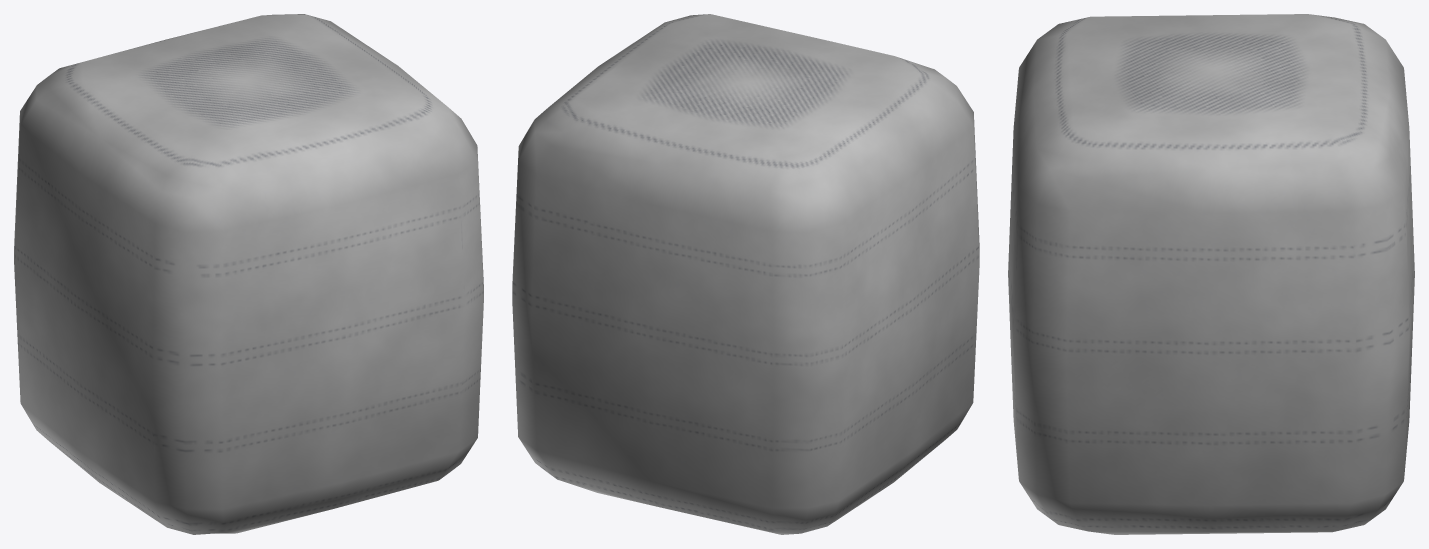
Rendered from RightUpperLeg_C1.fbx.
The picture shows the model from 3 angles, left to right: view 1: azimuth 30°, elevation 25°; view 2: azimuth 150°, elevation 25°; view 3: azimuth 270°, elevation 25°; orthographic projection. The views are drawn at different scales.
Parts seen in each view (by area): view 1: Civ_Mameluco_RightUpperLeg_C1; view 2: Civ_Mameluco_RightUpperLeg_C1; view 3: Civ_Mameluco_RightUpperLeg_C1.
Part boxes in pixels (bbox=[...]): Civ_Mameluco_RightUpperLeg_C1: bbox=[14, 14, 483, 534]; Civ_Mameluco_RightUpperLeg_C1: bbox=[512, 14, 979, 534]; Civ_Mameluco_RightUpperLeg_C1: bbox=[1008, 14, 1414, 534].
Bounding box in the file's own units: 1.31 × 1.43 × 1.29.
